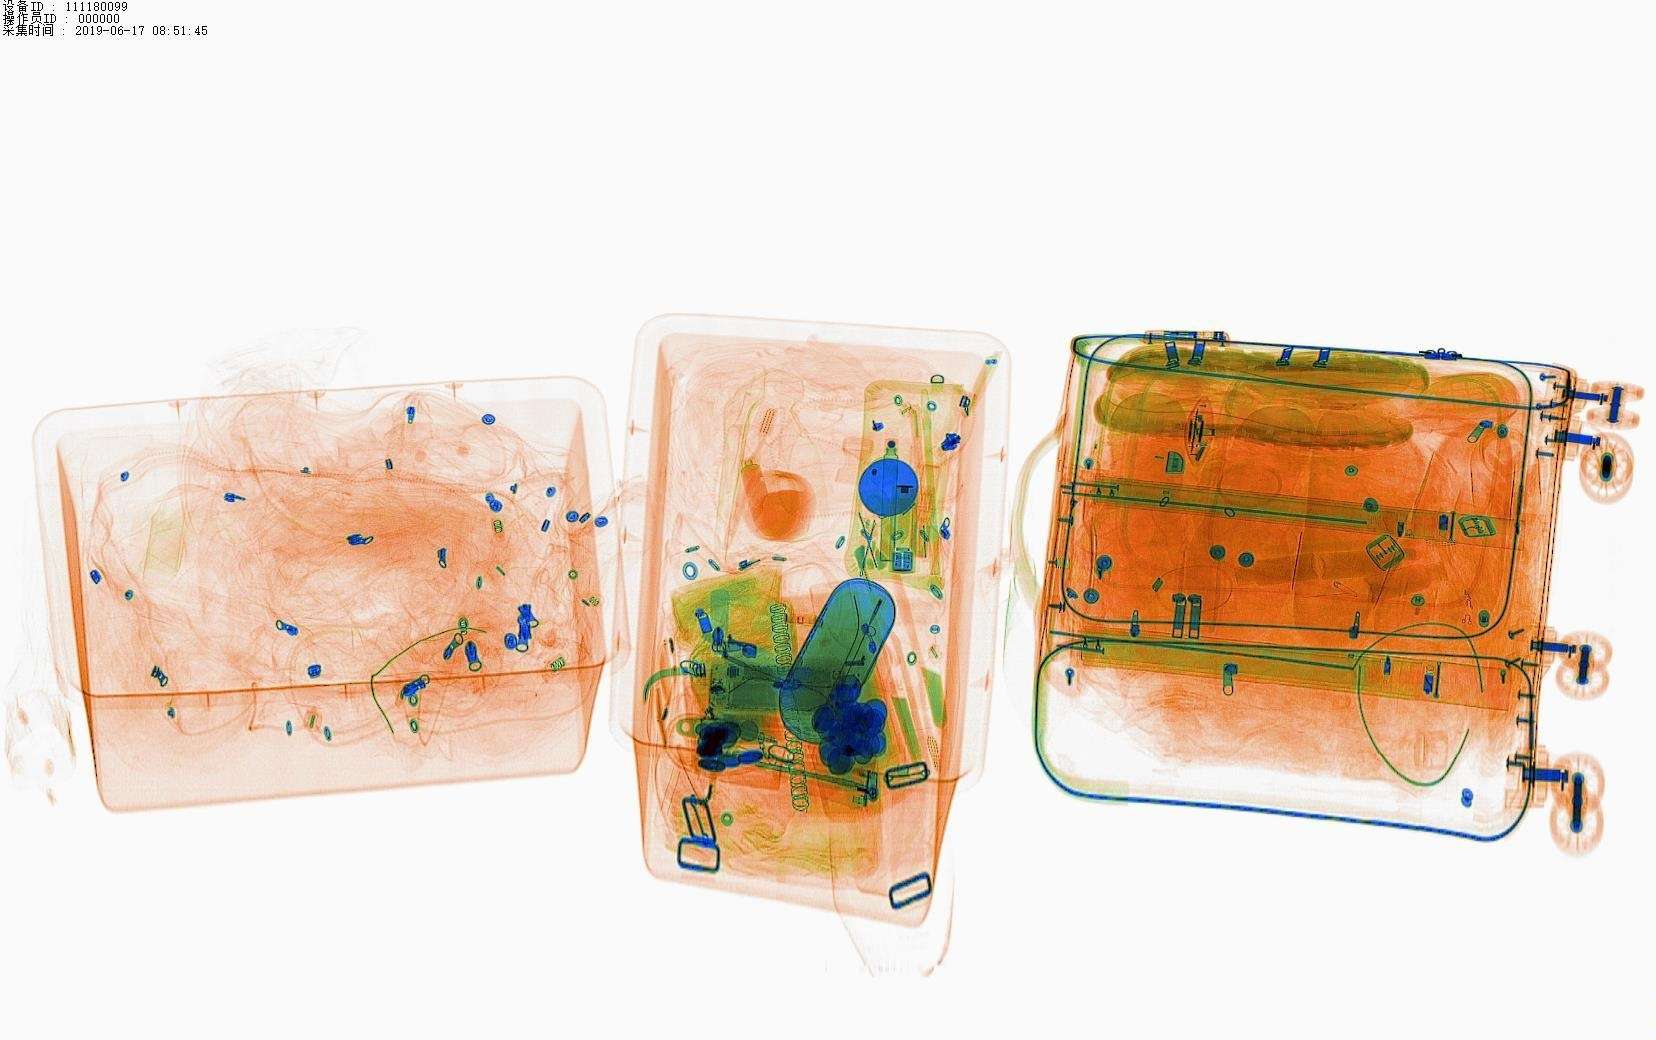NonmetallicFire: (770, 752, 900, 821)
